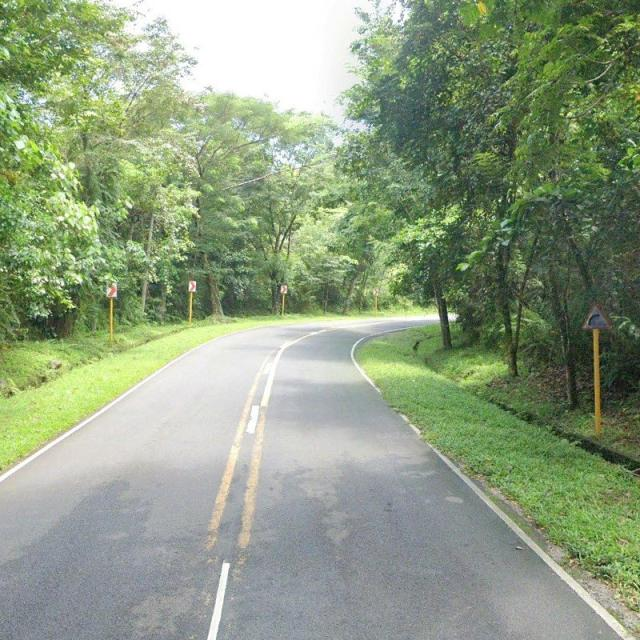warn_right_curve: (580, 303, 611, 330)
